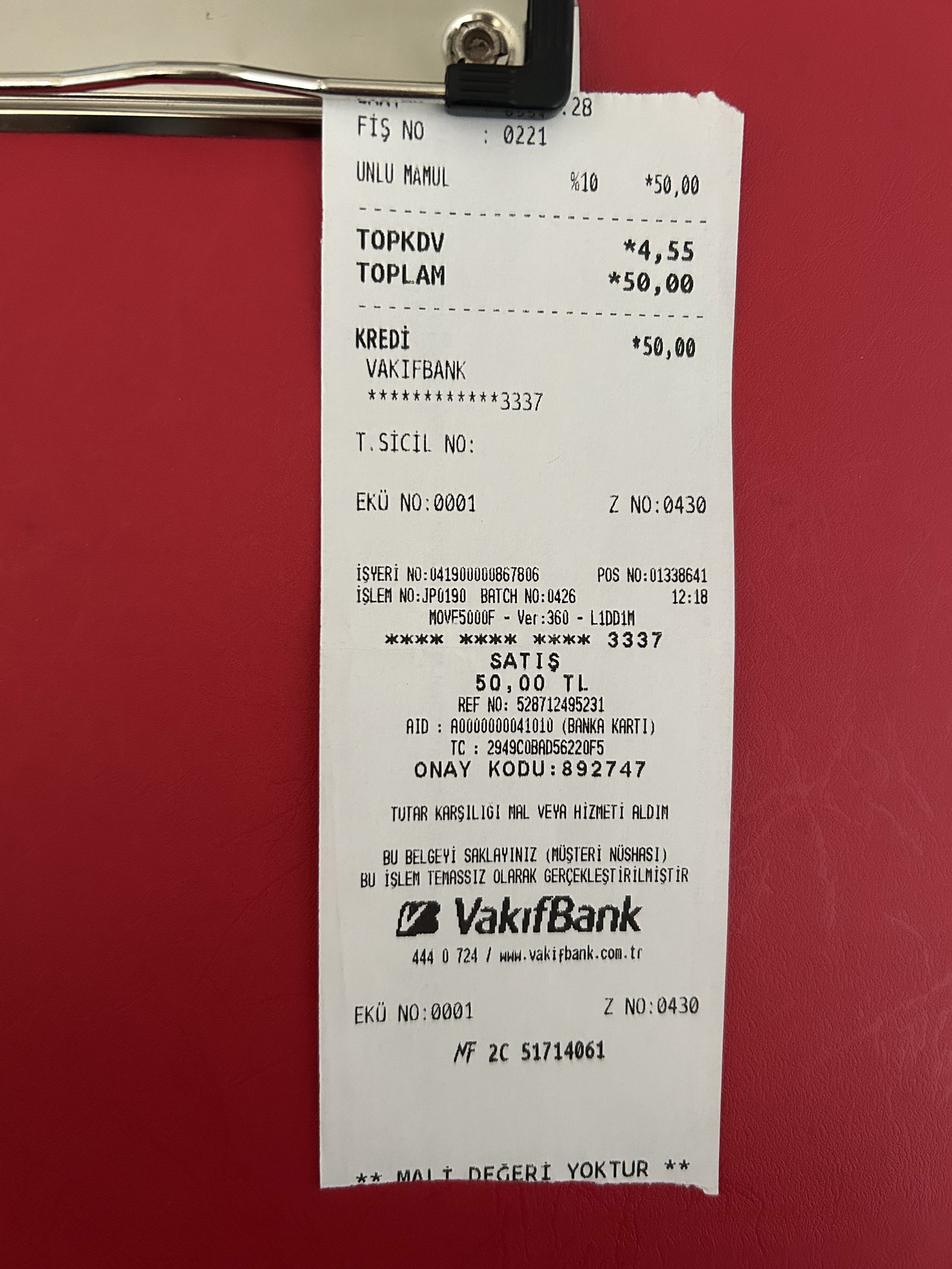date: (620, 266, 698, 303)
